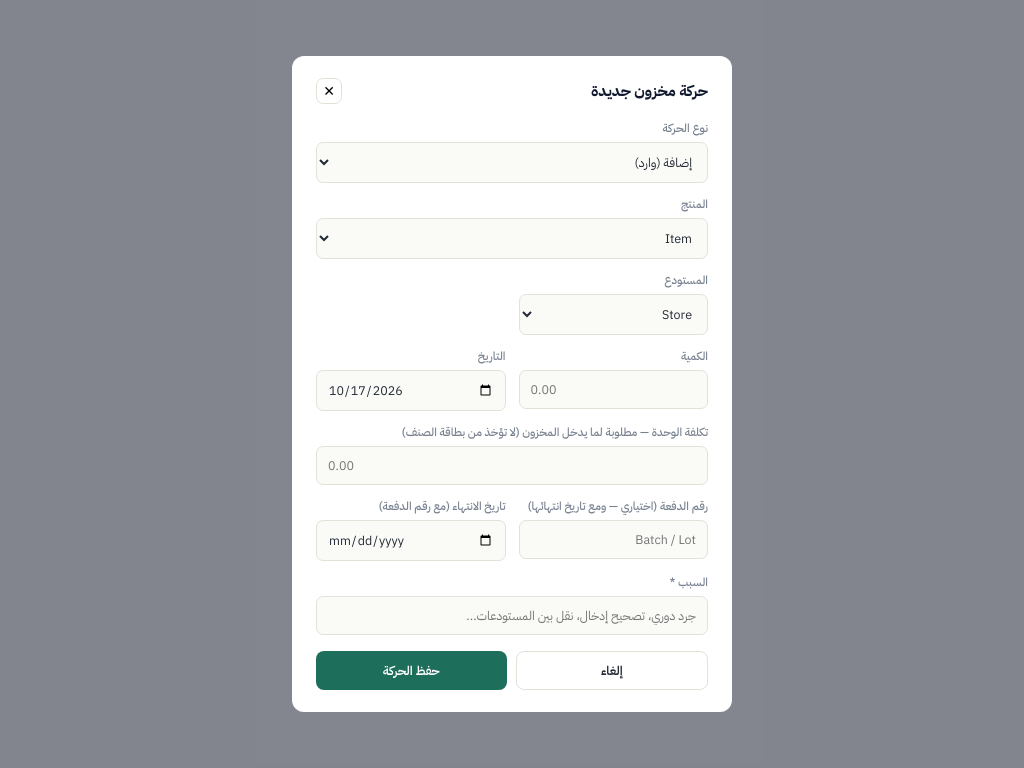
it: Stock movement save follows the action the movement needs › disables saving a stock out without review, and says why
The width and height of the screenshot is (1024, 768).
Select "صرف (صادر)" in the dropdown below "نوع الحركة": (512, 162) [316,142,708,183]
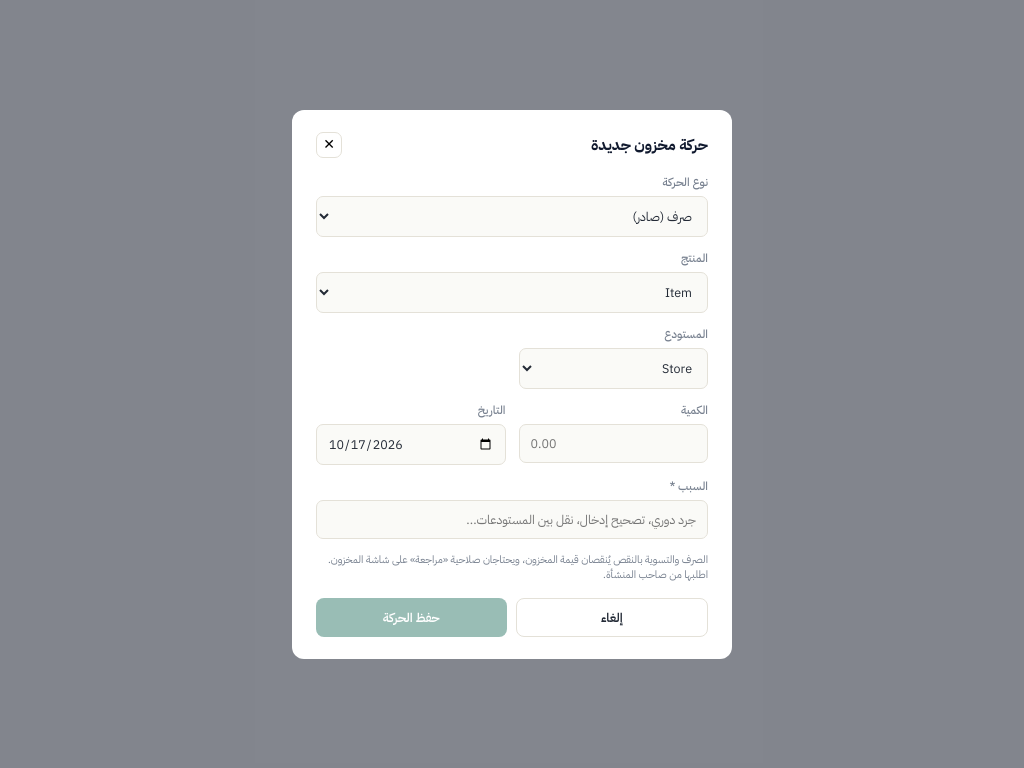
Now the button "حفظ الحركة" is disabled, box [316,598,506,636]
Now the text "الصرف والتسوية بالنقص يُنقصان قيمة المخزون، ويحتاجان صلاحية «مراجعة» على شاشة المخزون. اطلبها من صاحب المنشأة." is shown, box [328,552,708,582]
